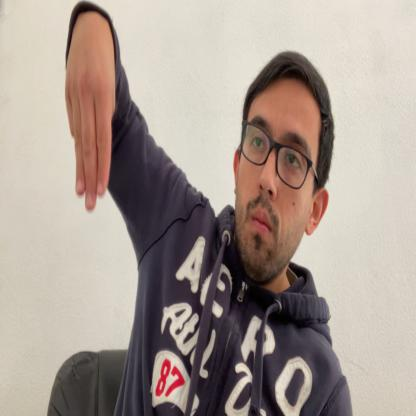M: (64, 22, 116, 212)
